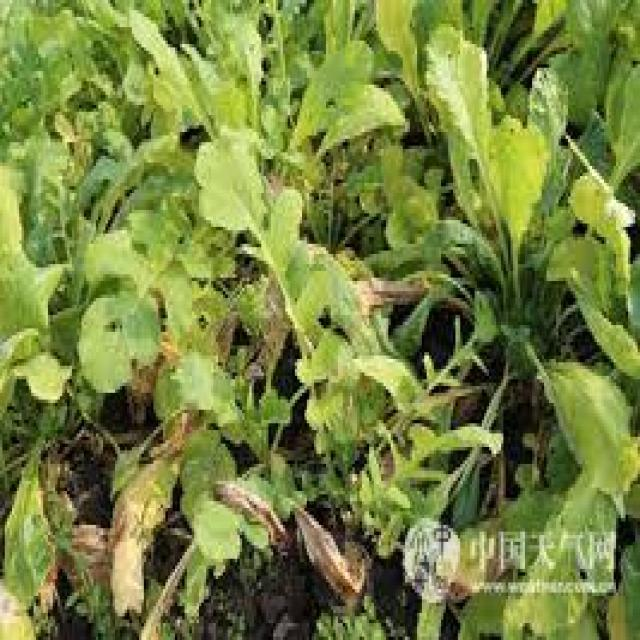organic waste: (0, 0, 261, 636), (218, 159, 501, 559), (424, 24, 638, 498), (187, 0, 395, 234), (118, 409, 321, 636), (372, 0, 570, 159), (448, 474, 638, 637), (0, 162, 58, 538), (549, 0, 638, 234), (326, 600, 391, 636)
